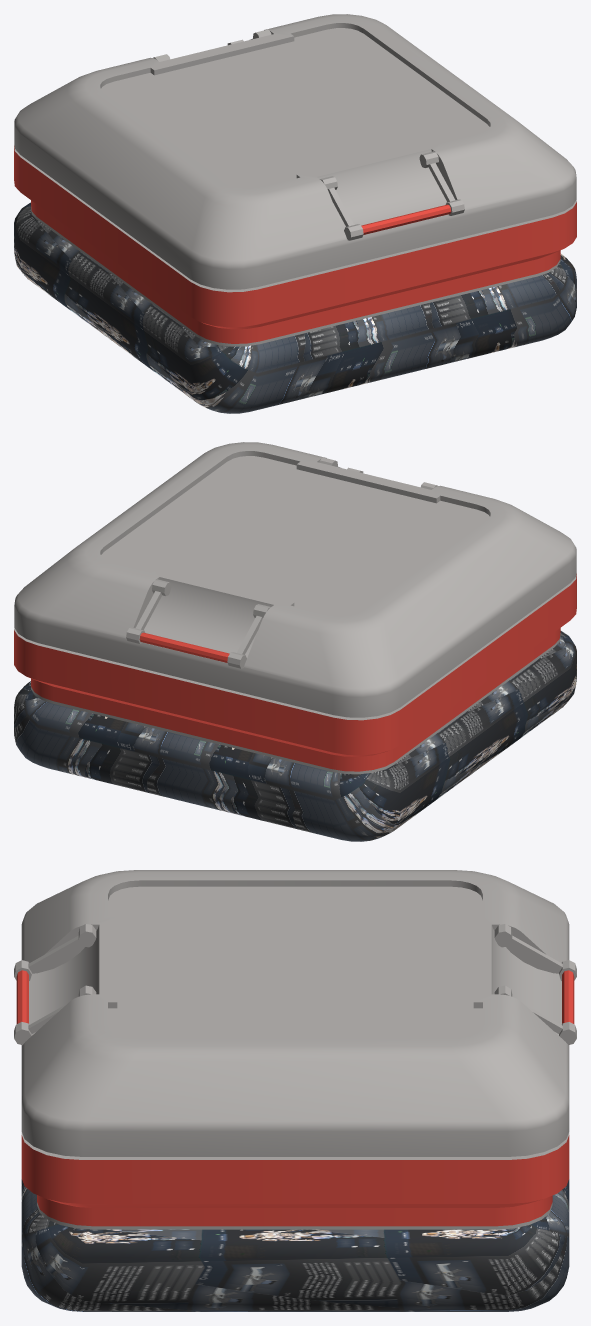
File: ItemBox.fbx
The picture shows the model from 3 angles, top to bottom: view 1: azimuth 30°, elevation 25°; view 2: azimuth 150°, elevation 25°; view 3: azimuth 270°, elevation 25°; orthographic projection. The views are drawn at different scales.
Visible parts, largest first — view 1: Cube; view 2: Cube; view 3: Cube.
Part boxes in pixels (<box>): Cube: <box>14,14,576,413</box>; Cube: <box>14,442,576,841</box>; Cube: <box>14,870,576,1311</box>.
Bounding box in the file's own units: 40 × 20.08 × 41.1.
